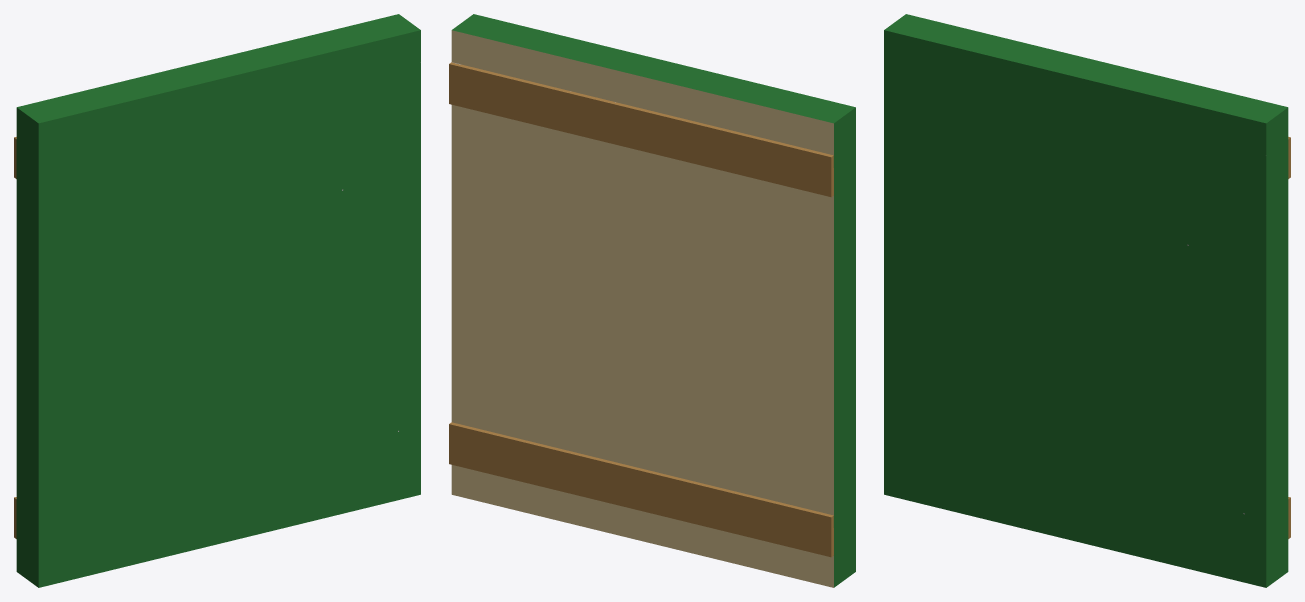
File: Plain Wall 1.fbx
The picture shows the model from 3 angles, left to right: view 1: azimuth 30°, elevation 25°; view 2: azimuth 150°, elevation 25°; view 3: azimuth 330°, elevation 25°; orthographic projection.
Parts seen in each view (by area): view 1: Normal Wall; view 2: Normal Wall; view 3: Normal Wall.
Part boxes in pixels (left/top/right/bottom): Normal Wall: left=14, top=14, right=420, bottom=587; Normal Wall: left=449, top=14, right=855, bottom=587; Normal Wall: left=884, top=14, right=1290, bottom=587.
Size of the model in its own units: 200 by 232 by 22.31.
